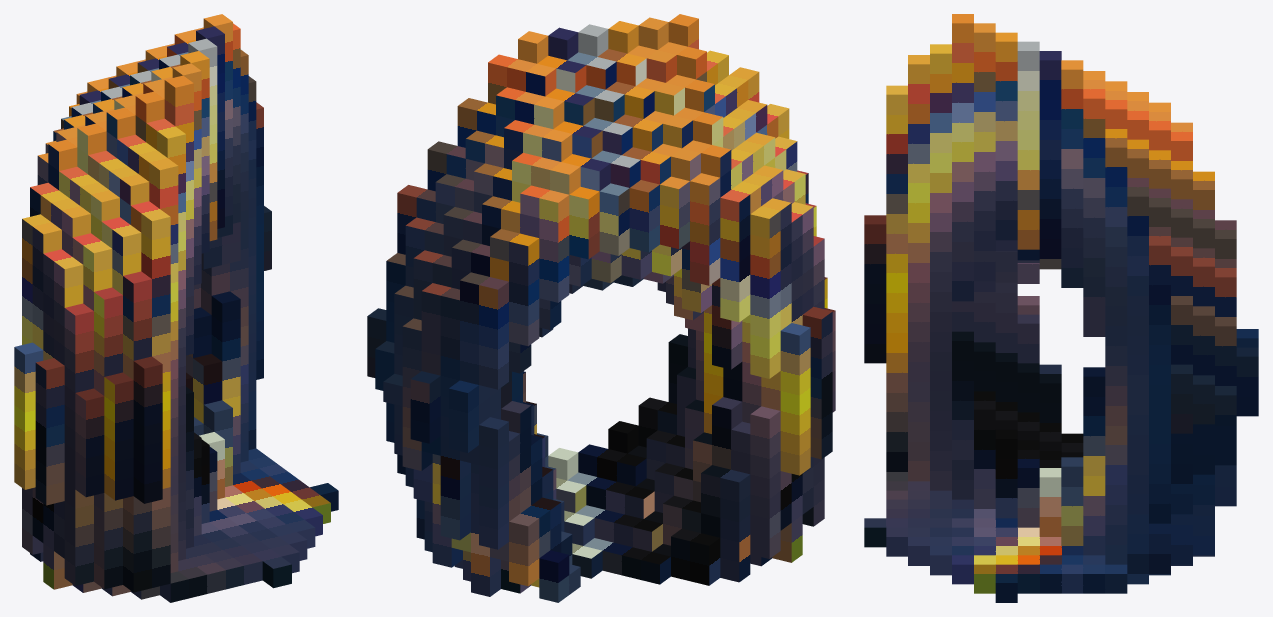
File: rubber-fender.glb
3 renders of one model, left to right at view 1: azimuth 30°, elevation 25°; view 2: azimuth 150°, elevation 25°; view 3: azimuth 270°, elevation 25°, orthographic. The views are drawn at different scales.
Parts seen in each view (by area): view 1: rubber-fender; view 2: rubber-fender; view 3: rubber-fender.
Boxes of the visible parts, x1,y1,x2,y2 form: rubber-fender: [14, 14, 338, 602]; rubber-fender: [367, 14, 835, 602]; rubber-fender: [864, 14, 1258, 602].
Size of the model in its own units: 1.03 by 1.43 by 1.03.
Materials: 1 (1 with a texture image).
